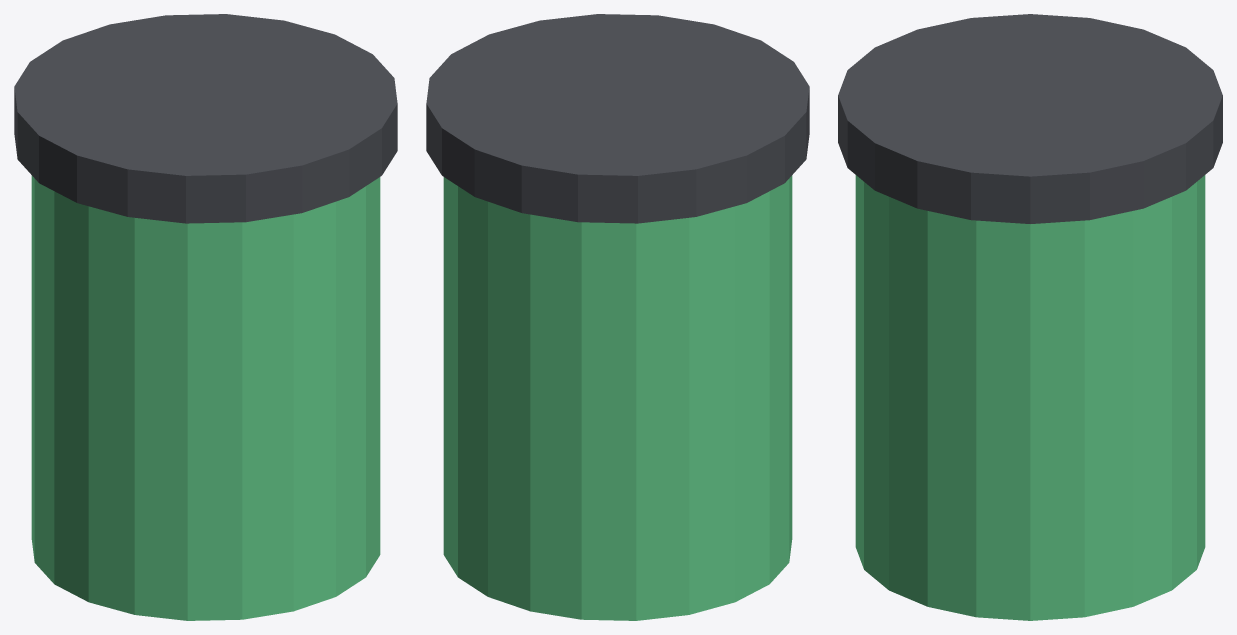
The model's file is Bin.fbx.
3 views of the same model, side by side, from view 1: azimuth 30°, elevation 25°; view 2: azimuth 150°, elevation 25°; view 3: azimuth 270°, elevation 25° (orthographic).
Parts seen in each view (by area): view 1: Green.001, Dark.005; view 2: Green.001, Dark.005; view 3: Green.001, Dark.005.
Boxes of the visible parts, x1,y1,x2,y2 form: Green.001: (31, 175, 380, 620); Dark.005: (14, 14, 397, 223); Green.001: (443, 175, 792, 620); Dark.005: (426, 14, 809, 223); Green.001: (855, 175, 1205, 620); Dark.005: (838, 14, 1222, 223).
Bounding box in the file's own units: 220 × 285 × 220.
